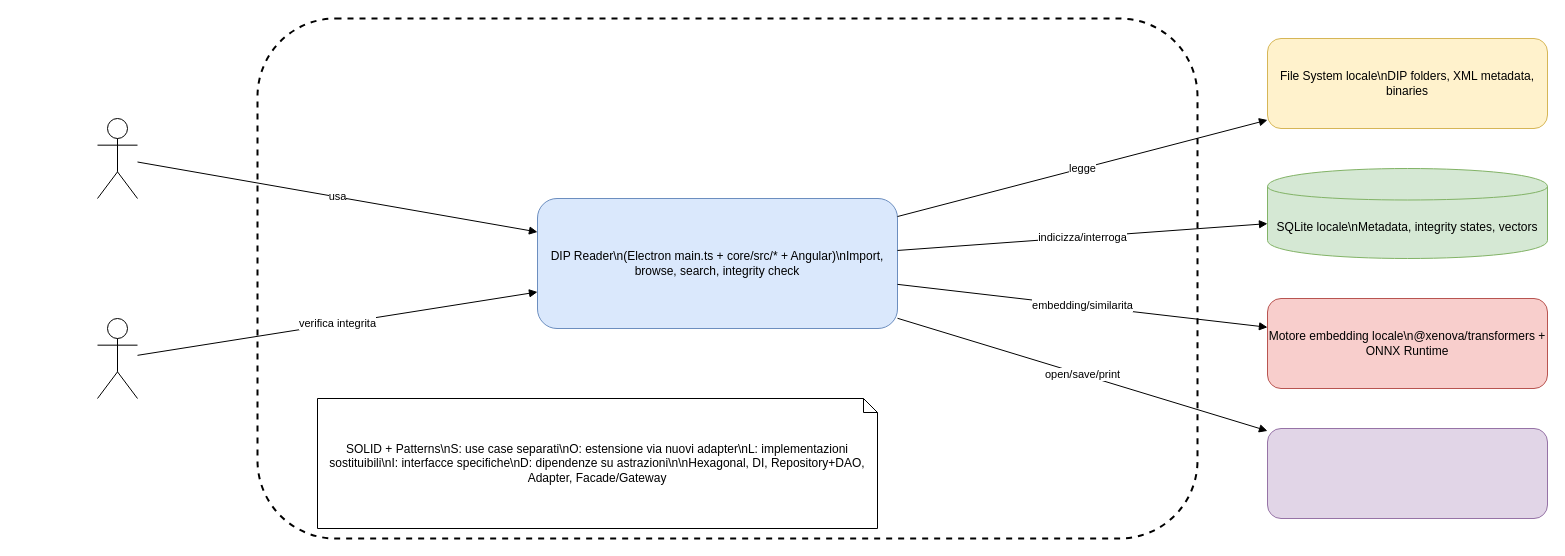
Image size: 1565x556. Some labels were removed from this diagram. Here are the shapes that lost their labels. From the top down, the centre of each, then its label:
At pixel 117 158: "Utente autorizzato".
At pixel 117 358: "Auditor / Responsabile conservazione".
At pixel 1407 473: "Servizi OS\nopen / save / print".
